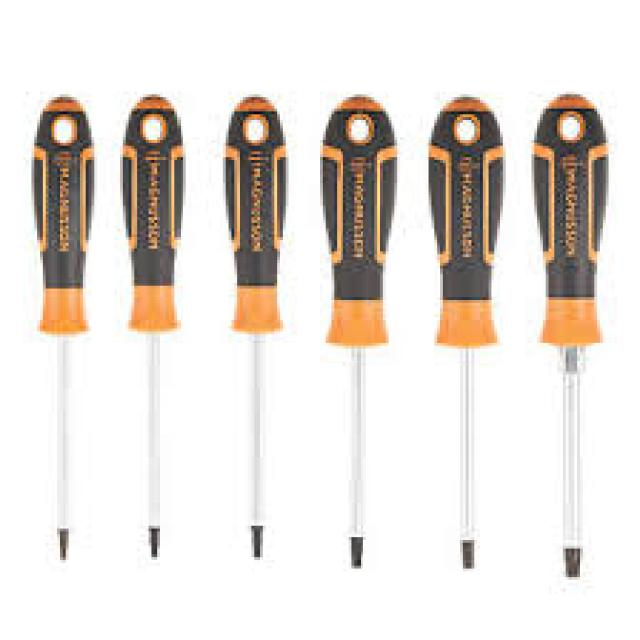screw driver: (520, 88, 640, 588), (416, 89, 523, 580), (307, 81, 402, 583), (13, 84, 108, 572), (105, 80, 190, 573), (212, 95, 297, 574)
